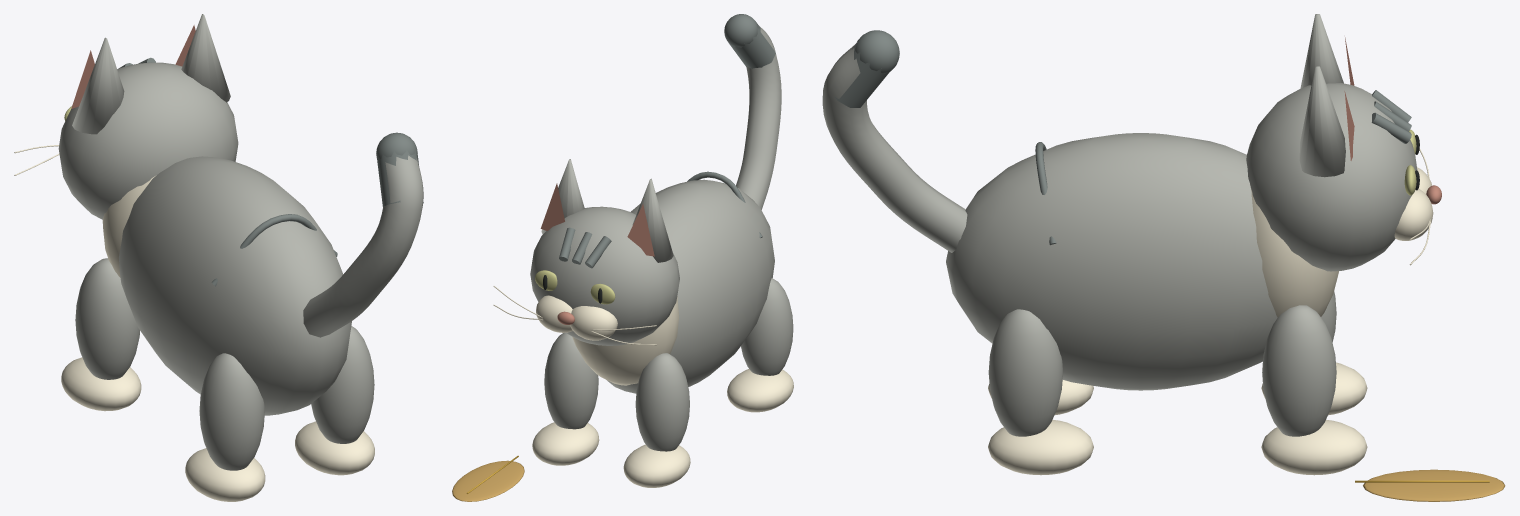
Rendered from wave2_leaf_cat.glb.
3 renders of one model, left to right at view 1: azimuth 30°, elevation 25°; view 2: azimuth 150°, elevation 25°; view 3: azimuth 270°, elevation 25°, orthographic. The views are drawn at different scales.
Visible parts, largest first — view 1: TabbyBody, CatHead, CuriousTail, CatLeg.001, CatLeg, CatLeg.003, CatPaw.001, CatPaw, CatPaw.003, CreamBreast, SoftTailCap, CatNose (+1 smaller); view 2: TabbyBody, CatHead, CuriousTail, CatLeg, CatLeg.002, CreamBreast, CatLeg.001, CatMuzzle, CatPaw.002, CatPaw.001, CatPaw, FallenLeaf (+5 smaller); view 3: TabbyBody, CatHead, CuriousTail, CatLeg.002, CatLeg.003, CreamBreast, CatPaw.002, CatPaw.003, FallenLeaf, SoftTailCap, CatMuzzle, CatPaw (+2 smaller).
Part boxes in pixels (<box>): TabbyBody: <box>119,156,351,415</box>; CatHead: <box>58,14,238,219</box>; CuriousTail: <box>303,155,423,337</box>; CatLeg.001: <box>199,353,264,470</box>; CatLeg: <box>75,258,139,379</box>; CatLeg.003: <box>311,326,374,443</box>; CatPaw.001: <box>185,448,265,501</box>; CatPaw: <box>61,357,141,411</box>; CatPaw.003: <box>295,421,374,475</box>; CreamBreast: <box>102,175,156,277</box>; SoftTailCap: <box>376,132,423,206</box>; CatNose: <box>71,25,195,108</box>; TabbyBody: <box>607,179,774,393</box>; CatHead: <box>530,159,679,345</box>; CuriousTail: <box>736,26,781,209</box>; CatLeg: <box>635,353,689,451</box>; CatLeg.002: <box>544,332,598,429</box>; CreamBreast: <box>572,296,679,385</box>; CatLeg.001: <box>741,278,793,375</box>; CatMuzzle: <box>493,286,656,345</box>; CatPaw.002: <box>532,422,599,465</box>; CatPaw.001: <box>727,369,793,412</box>; CatPaw: <box>623,444,690,487</box>; FallenLeaf: <box>452,460,524,501</box>; TabbyBody: <box>946,133,1277,390</box>; CatHead: <box>1246,14,1417,271</box>; CuriousTail: <box>822,44,967,252</box>; CatLeg.002: <box>1262,305,1336,436</box>; CatLeg.003: <box>988,309,1062,436</box>; CreamBreast: <box>1250,187,1338,317</box>; CatPaw.002: <box>1261,419,1367,475</box>; CatPaw.003: <box>988,419,1093,475</box>; FallenLeaf: <box>1363,469,1505,501</box>; SoftTailCap: <box>834,30,899,107</box>; CatMuzzle: <box>1394,148,1433,265</box>; CatPaw: <box>1261,362,1367,415</box>.
Size of the model in its own units: 0.3543 by 0.599 by 0.8616.
